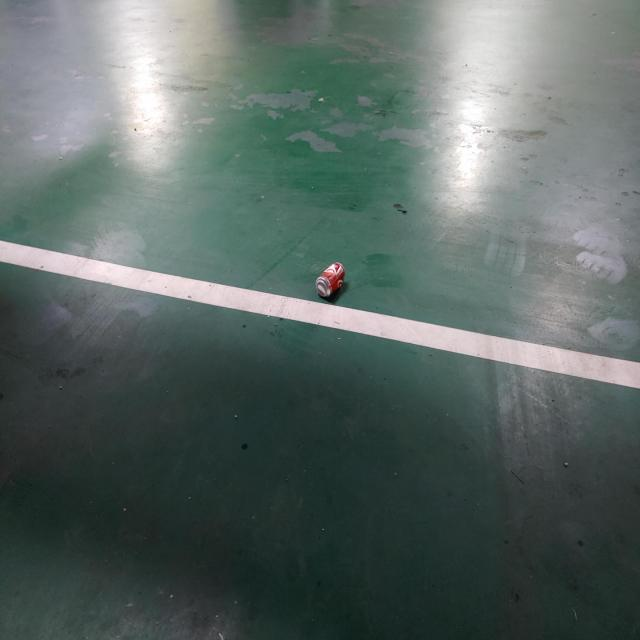can: (316, 262, 345, 297)
